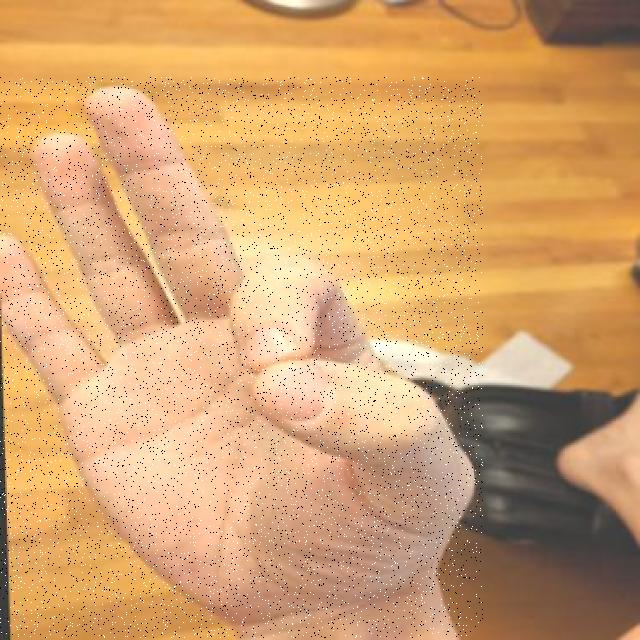F: (0, 77, 483, 638)
